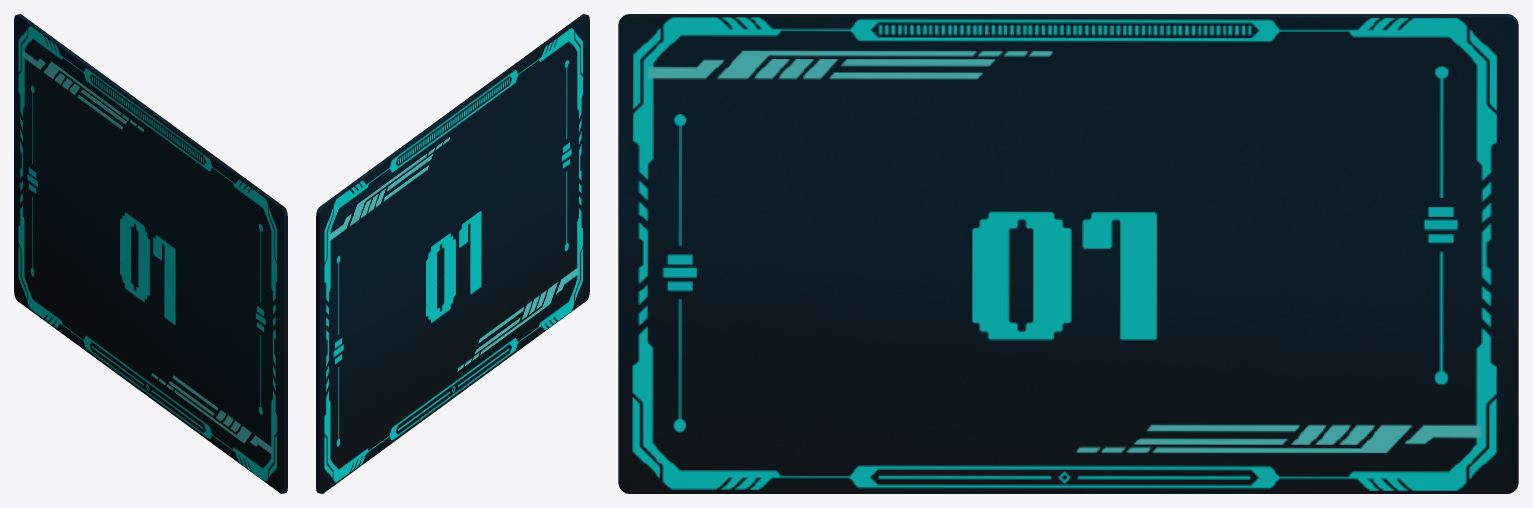
Rendered from keycard1.fbx.
3 views of the same model, side by side, from view 1: azimuth 30°, elevation 25°; view 2: azimuth 150°, elevation 25°; view 3: azimuth 270°, elevation 25° (orthographic). The views are drawn at different scales.
Parts seen in each view (by area): view 1: keycard; view 2: keycard; view 3: keycard.
Part boxes in pixels (<box>): keycard: <box>14,14,287,493</box>; keycard: <box>316,14,589,493</box>; keycard: <box>618,14,1518,493</box>.
Bounding box in the file's own units: 0.2276 × 15.72 × 26.91.
